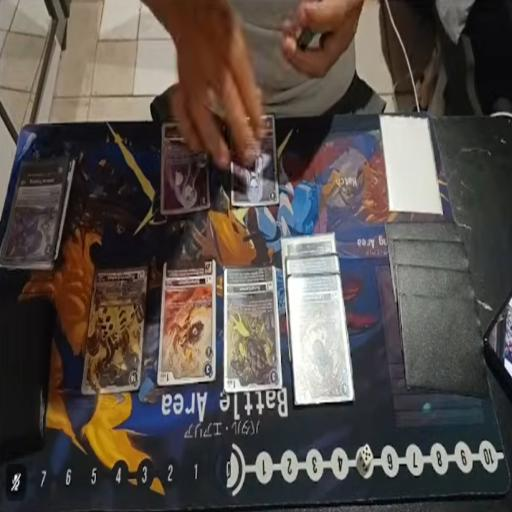card: (284, 270, 354, 406), (80, 270, 148, 398), (156, 256, 219, 391), (3, 156, 71, 269), (223, 262, 280, 391), (159, 116, 216, 221), (231, 114, 277, 209), (280, 225, 338, 259), (286, 250, 342, 280)
